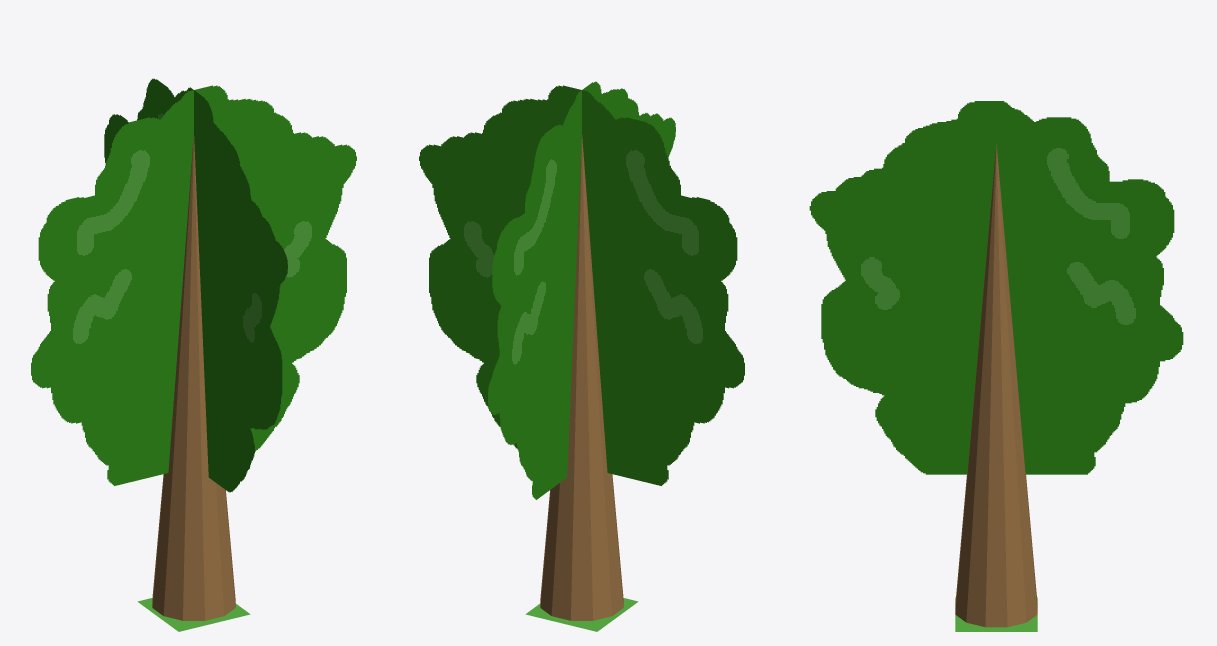
File: tree_0.gltf
The picture shows the model from 3 angles, left to right: view 1: azimuth 30°, elevation 25°; view 2: azimuth 150°, elevation 25°; view 3: azimuth 270°, elevation 25°; orthographic projection.
Visible parts, largest first — view 1: leaves_2, leaves_1, cone, ground; view 2: leaves_2, leaves_1, cone, ground; view 3: leaves_1, cone, ground.
Boxes of the visible parts, x1,y1,x2,y2 form: leaves_2: [31, 85, 356, 485]; leaves_1: [104, 78, 287, 492]; cone: [152, 135, 235, 620]; ground: [137, 598, 250, 631]; leaves_2: [419, 85, 744, 485]; leaves_1: [488, 81, 675, 499]; cone: [540, 135, 623, 620]; ground: [525, 598, 638, 631]; leaves_1: [809, 101, 1183, 474]; cone: [955, 143, 1037, 627]; ground: [955, 597, 1037, 631].
Bounding box in the file's own units: 5 × 6.88 × 5.
Materials: 3 (3 with a texture image).
